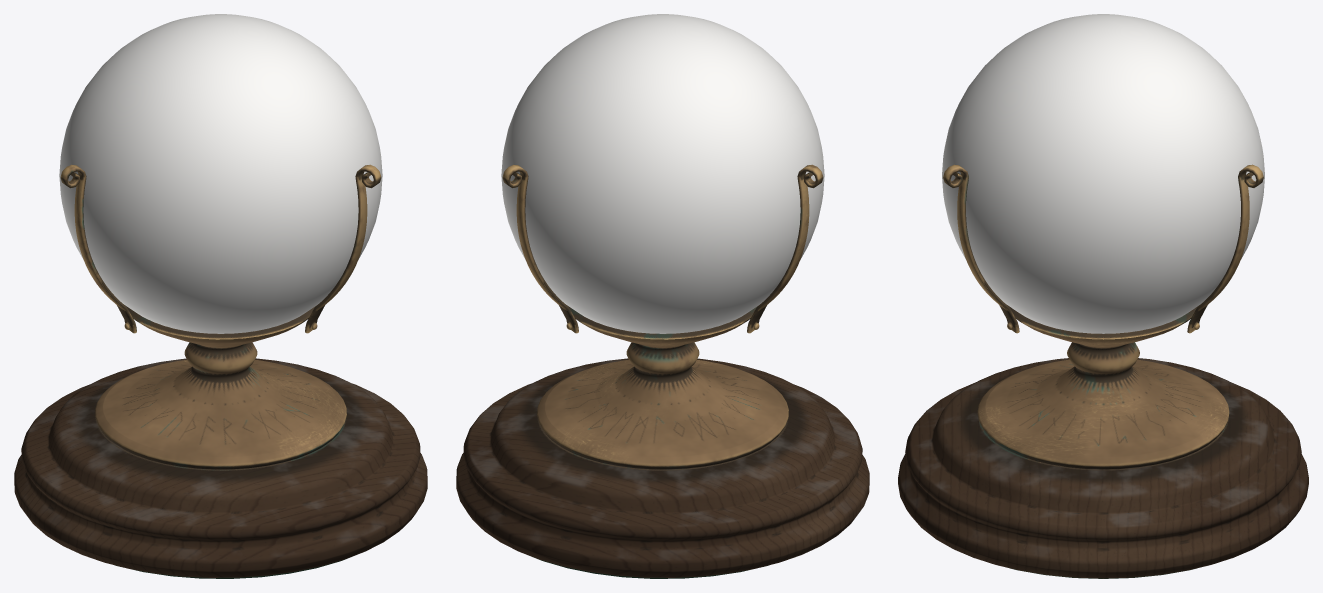
File: SM_ScryingOrb.fbx
The picture shows the model from 3 angles, left to right: view 1: azimuth 30°, elevation 25°; view 2: azimuth 150°, elevation 25°; view 3: azimuth 270°, elevation 25°; orthographic projection.
Parts seen in each view (by area): view 1: SM_ScryingOrb, SM_ScryingOrb_Glass; view 2: SM_ScryingOrb, SM_ScryingOrb_Glass; view 3: SM_ScryingOrb, SM_ScryingOrb_Glass.
Part boxes in pixels (x1,y1,x2,y2): SM_ScryingOrb: (14,164,427,578); SM_ScryingOrb_Glass: (59,14,382,333); SM_ScryingOrb: (456,164,869,578); SM_ScryingOrb_Glass: (501,14,824,333); SM_ScryingOrb: (898,164,1308,578); SM_ScryingOrb_Glass: (942,14,1264,333).
Size of the model in its own units: 0.1412 by 0.1762 by 0.1398.
2 materials, 1 textured.
